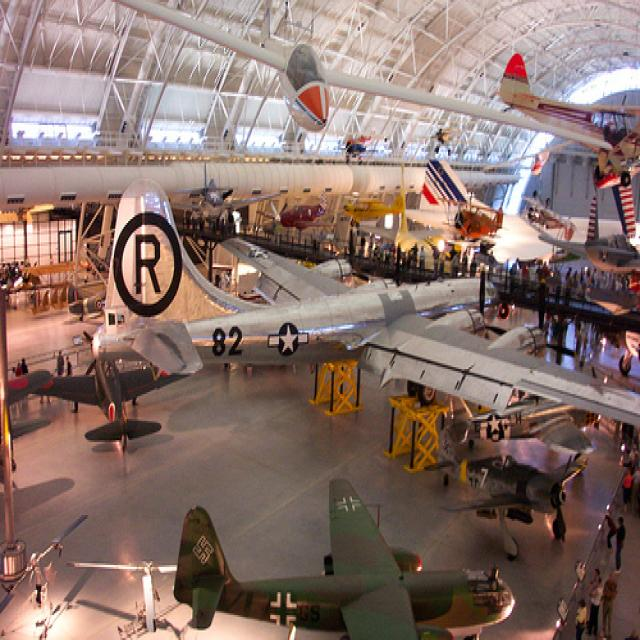aeroplane: (91, 174, 640, 433), (109, 1, 614, 157), (173, 474, 520, 639), (422, 411, 589, 561), (495, 49, 640, 184), (28, 361, 195, 457), (443, 380, 605, 457), (534, 189, 640, 282), (155, 161, 281, 215), (482, 134, 582, 178), (435, 193, 510, 249), (255, 188, 335, 234), (407, 113, 487, 159), (522, 190, 580, 242), (329, 119, 390, 167), (340, 189, 408, 232), (64, 278, 110, 324)
person: (584, 576, 606, 639), (602, 572, 621, 639), (612, 512, 628, 574), (603, 510, 618, 553), (575, 597, 589, 639)
